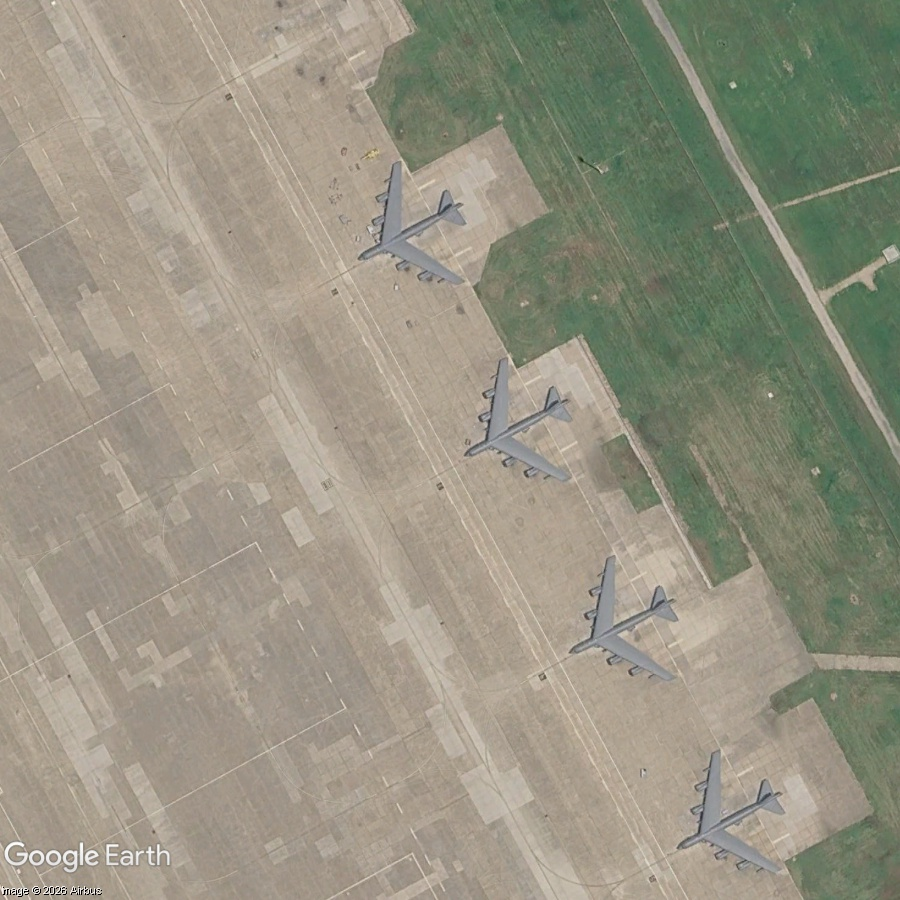Máy bay ném bom: (426, 335, 608, 523), (532, 535, 711, 721), (321, 140, 499, 327), (639, 728, 820, 900)
